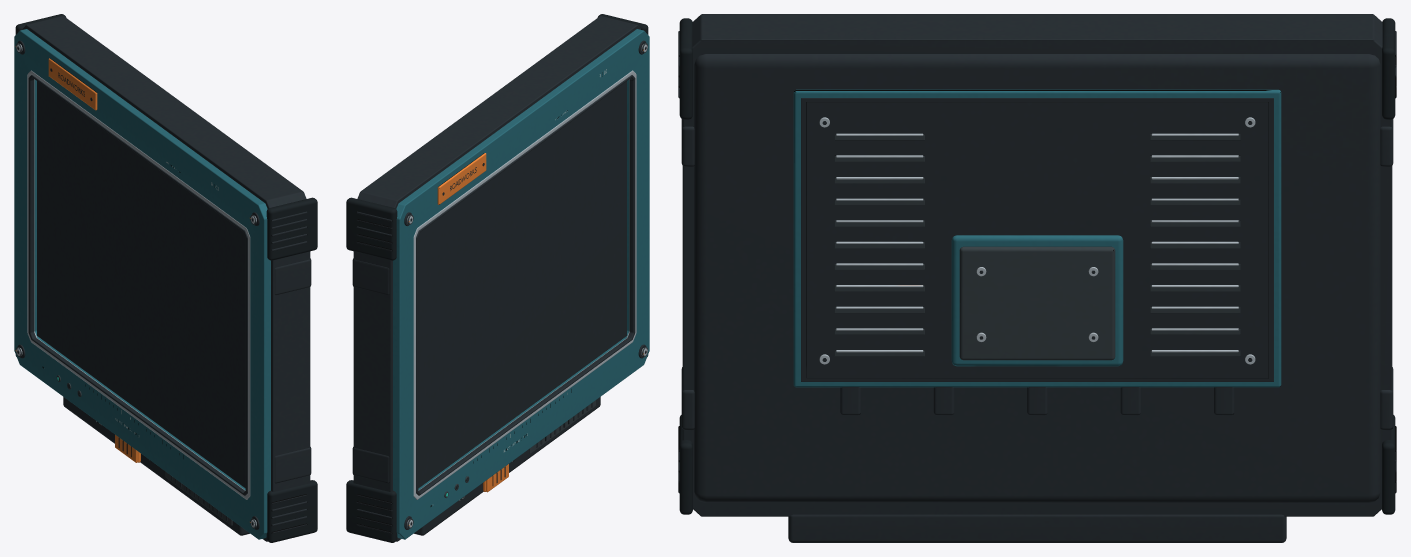
The model's file is SM_RoadMonitorHousing_V2_UE.fbx.
The picture shows the model from 3 angles, left to right: view 1: azimuth 30°, elevation 25°; view 2: azimuth 150°, elevation 25°; view 3: azimuth 270°, elevation 25°; orthographic projection. The views are drawn at different scales.
Visible parts, largest first — view 1: PR_UE_Export_Housing; view 2: PR_UE_Export_Housing; view 3: PR_UE_Export_Housing.
Boxes of the visible parts, x1=… form: PR_UE_Export_Housing: x1=14, y1=14, x2=317, y2=542; PR_UE_Export_Housing: x1=346, y1=14, x2=649, y2=542; PR_UE_Export_Housing: x1=678, y1=14, x2=1396, y2=542.
Bounding box in the file's own units: 34.6 × 5.24 × 26.82.
1 material, 1 textured.
